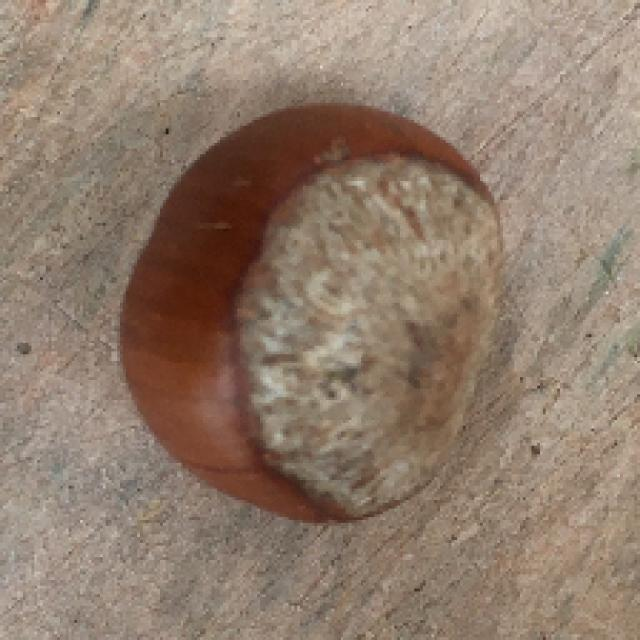qualityHazelnut: (109, 99, 515, 530)
